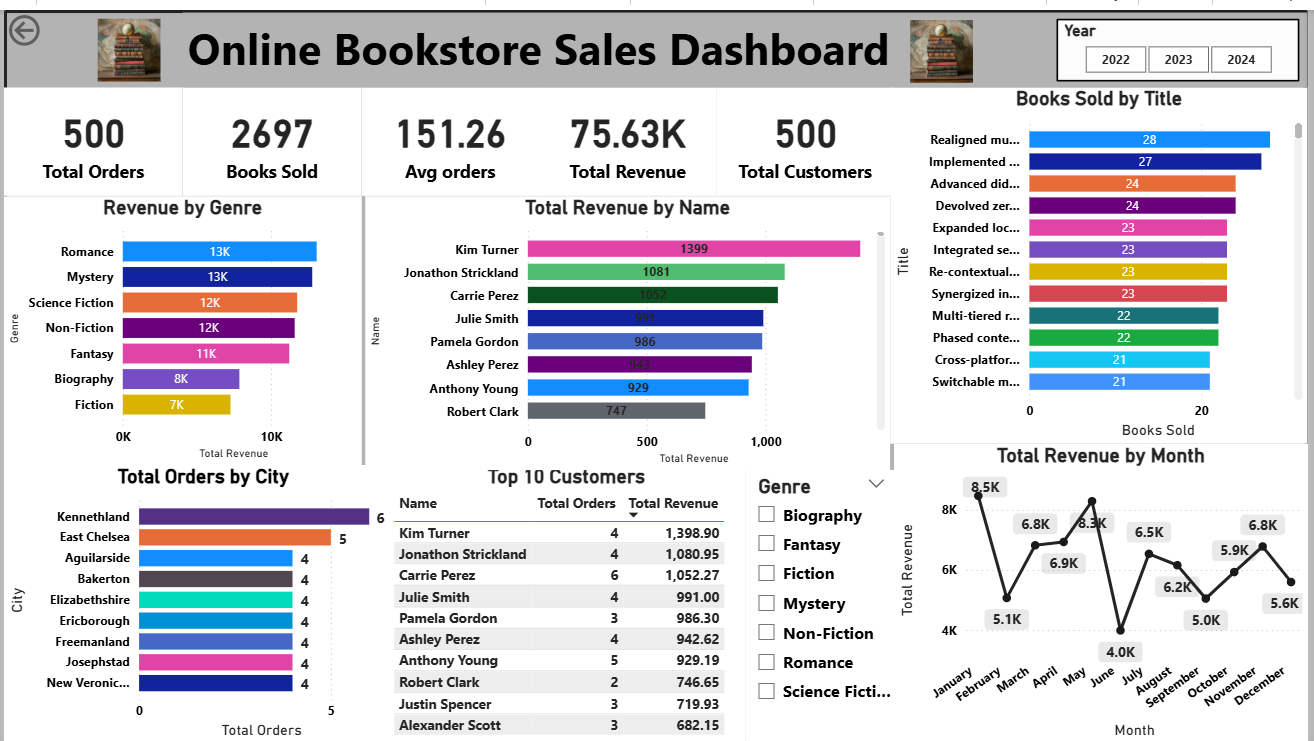

The dashboard page shown, as its layout file describes it:
{"tool":"powerbi","page":{"name":"Online_bookstore_dashboard","canvas":[1280,720],"ordinal":0},"visuals":[{"type":"shape","box":[0,0,1279.8,720.2],"z":0},{"type":"card","fields":{"Values":["Orders (1).Total Orders"]},"box":[0,76.1,175.5,106.7],"z":1000},{"type":"actionButton","box":[0,0,100,40],"z":2000},{"type":"card","fields":{"Values":["Orders (1).Total Revenue"]},"box":[525.2,76.1,174.2,106.7],"z":3000},{"type":"card","fields":{"Values":["Orders (1).Books Sold"]},"box":[175.5,76.1,175.5,106.7],"z":4000},{"type":"barChart","title":"Revenue by Genre ","fields":{"Category":["Books.Genre"],"Y":["Orders (1).Total Revenue"],"Series":["Books.Genre"]},"box":[0,182.8,350.9,263.8],"z":5000},{"type":"lineChart","fields":{"Category":["Orders (1).Order_Date.Variation.Date Hierarchy.Month"],"Y":["Orders (1).Total Revenue"]},"box":[873.6,425.8,406.1,294.5],"z":6000},{"type":"barChart","title":"Books Sold by Title","fields":{"Category":["Books.Title"],"Y":["Orders (1).Books Sold"],"Series":["Books.Title"]},"box":[869.9,76.1,409.8,349.7],"z":7000},{"type":"barChart","title":"Total Orders by City ","fields":{"Category":["Customers.City"],"Y":["Orders (1).Total Orders"],"Series":["Customers.City"]},"box":[0,446.6,391.4,273.6],"z":8000},{"type":"tableEx","title":"Top 10 Customers","fields":{"Values":["Customers.Name","Orders (1).Total Orders","Orders (1).Total Revenue"]},"box":[376.7,446.6,350.9,273.6],"z":9000},{"type":"barChart","title":"Total Revenue by Name ","fields":{"Category":["Customers.Name"],"Y":["Orders (1).Total Revenue"],"Series":["Customers.Name"]},"box":[354.6,182.8,515.3,268.7],"z":10000},{"type":"card","fields":{"Values":["Orders (1).Avg orders"]},"box":[350.9,76.1,174.2,106.7],"z":11000},{"type":"slicer","fields":{"Values":["Books.Genre"]},"box":[727.6,451.5,149.7,268.7],"z":12000},{"type":"card","fields":{"Values":["CountNonNull(Customers.Customer_ID)"]},"box":[699.4,76.1,174.2,106.7],"z":13000},{"type":"textbox","box":[175.5,2.5,1104.3,73.6],"z":14000},{"type":"slicer","title":"Year","fields":{"Values":["Orders (1).Order_Date.Variation.Date Hierarchy.Year"]},"box":[1033.1,8.6,238,61.4],"z":16000},{"type":"image","box":[0,8.6,245.4,61.4],"z":17000},{"type":"image","box":[797.6,9.8,245.4,61.4],"z":18000}]}

Visuals, with their boxes in screenshot pixels (x1, y1, x2, y2), scaled from the page's 1280x720 canvas onto the 1314x741 screenshot:
shape: pyautogui.locateOnScreen(0, 0, 1313, 740)
card - Orders (1).Total Orders: pyautogui.locateOnScreen(0, 78, 180, 188)
actionButton: pyautogui.locateOnScreen(0, 0, 103, 41)
card - Orders (1).Total Revenue: pyautogui.locateOnScreen(539, 78, 718, 188)
card - Orders (1).Books Sold: pyautogui.locateOnScreen(180, 78, 360, 188)
"Revenue by Genre " barChart: pyautogui.locateOnScreen(0, 188, 360, 460)
lineChart - Orders (1).Order_Date.Variation.Date Hierarchy.Month x Orders (1).Total Revenue: pyautogui.locateOnScreen(897, 438, 1313, 740)
"Books Sold by Title" barChart: pyautogui.locateOnScreen(893, 78, 1313, 438)
"Total Orders by City " barChart: pyautogui.locateOnScreen(0, 460, 402, 740)
"Top 10 Customers" tableEx: pyautogui.locateOnScreen(387, 460, 747, 740)
"Total Revenue by Name " barChart: pyautogui.locateOnScreen(364, 188, 893, 465)
card - Orders (1).Avg orders: pyautogui.locateOnScreen(360, 78, 539, 188)
slicer - Books.Genre: pyautogui.locateOnScreen(747, 465, 901, 740)
card - CountNonNull(Customers.Customer_ID): pyautogui.locateOnScreen(718, 78, 897, 188)
textbox: pyautogui.locateOnScreen(180, 3, 1313, 78)
"Year" slicer: pyautogui.locateOnScreen(1061, 9, 1305, 72)
image: pyautogui.locateOnScreen(0, 9, 252, 72)
image: pyautogui.locateOnScreen(819, 10, 1071, 73)
